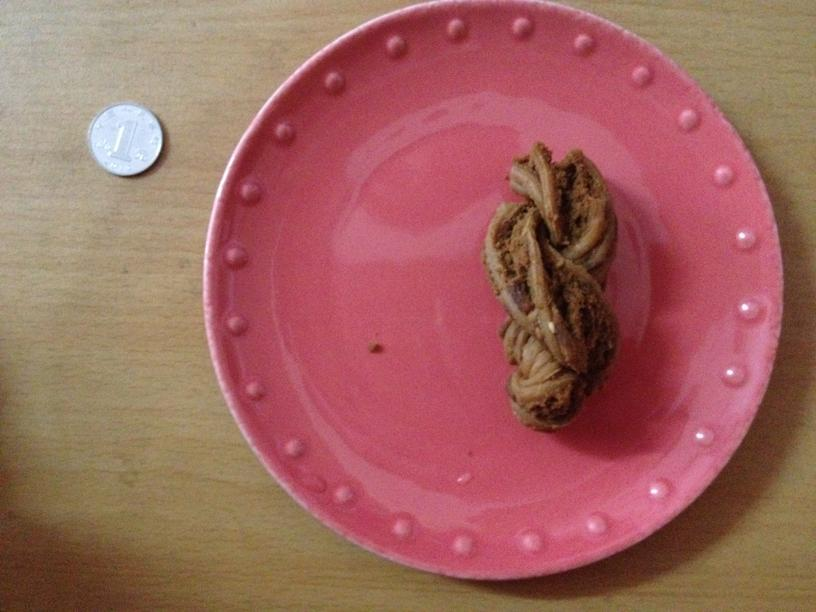coin: (90, 103, 162, 176)
fired_dough_twist: (494, 140, 615, 435)
